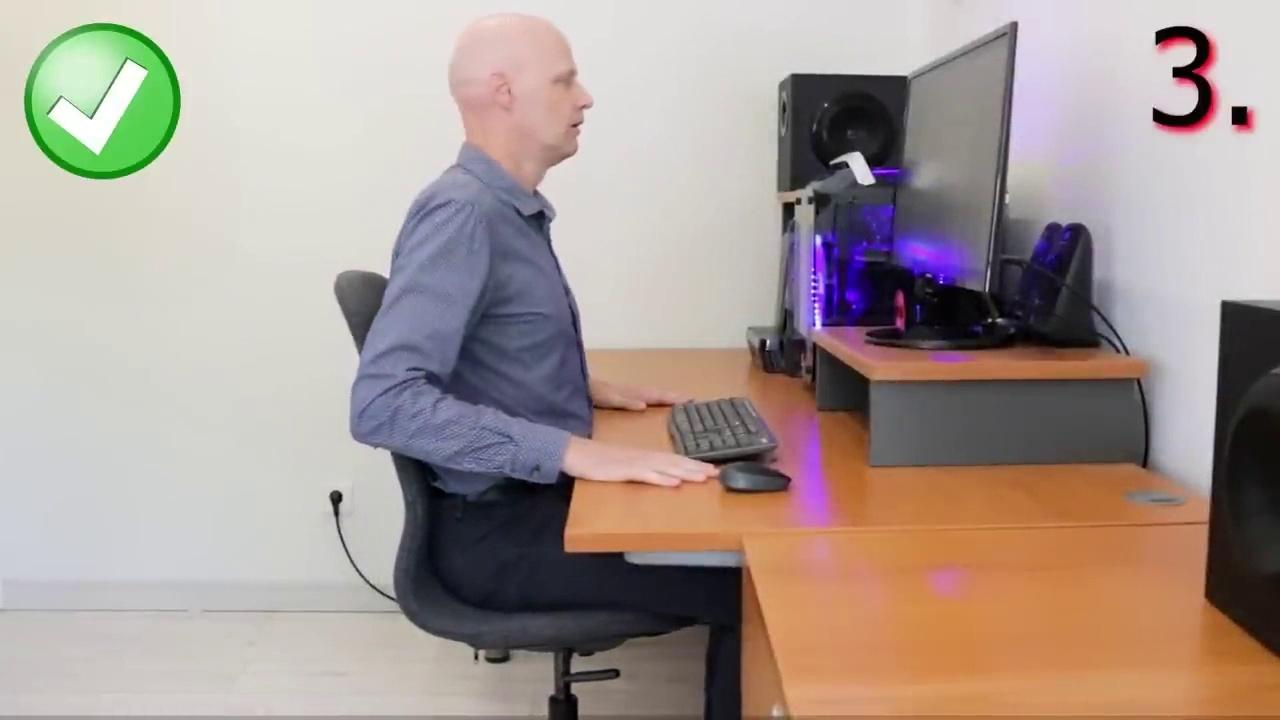GoodPosture: (352, 28, 742, 719)
